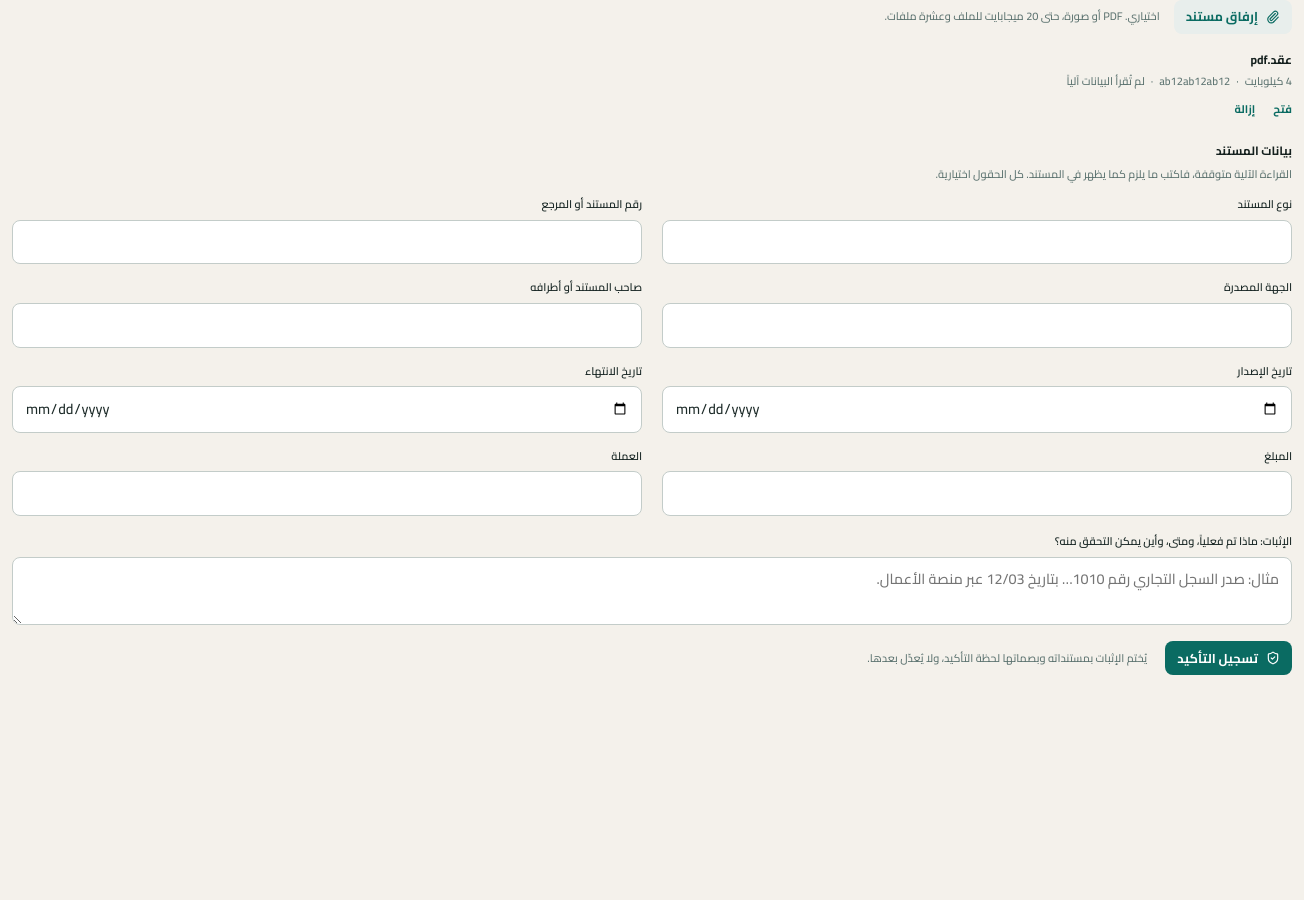
ExecutionProofForm › shows the server's own words when the proof was sealed elsewhere
Expected: the text "عقد.pdf" is shown, [1250, 48, 1292, 71]
Replace the text in the text box labelled "الإثبات: ماذا تم فعلياً، ومتى، وأين يمكن التحقق منه؟" with "صدر السجل التجاري عبر منصة الأعمال اليوم": {"x": 652, "y": 591} [12, 556, 1292, 625]
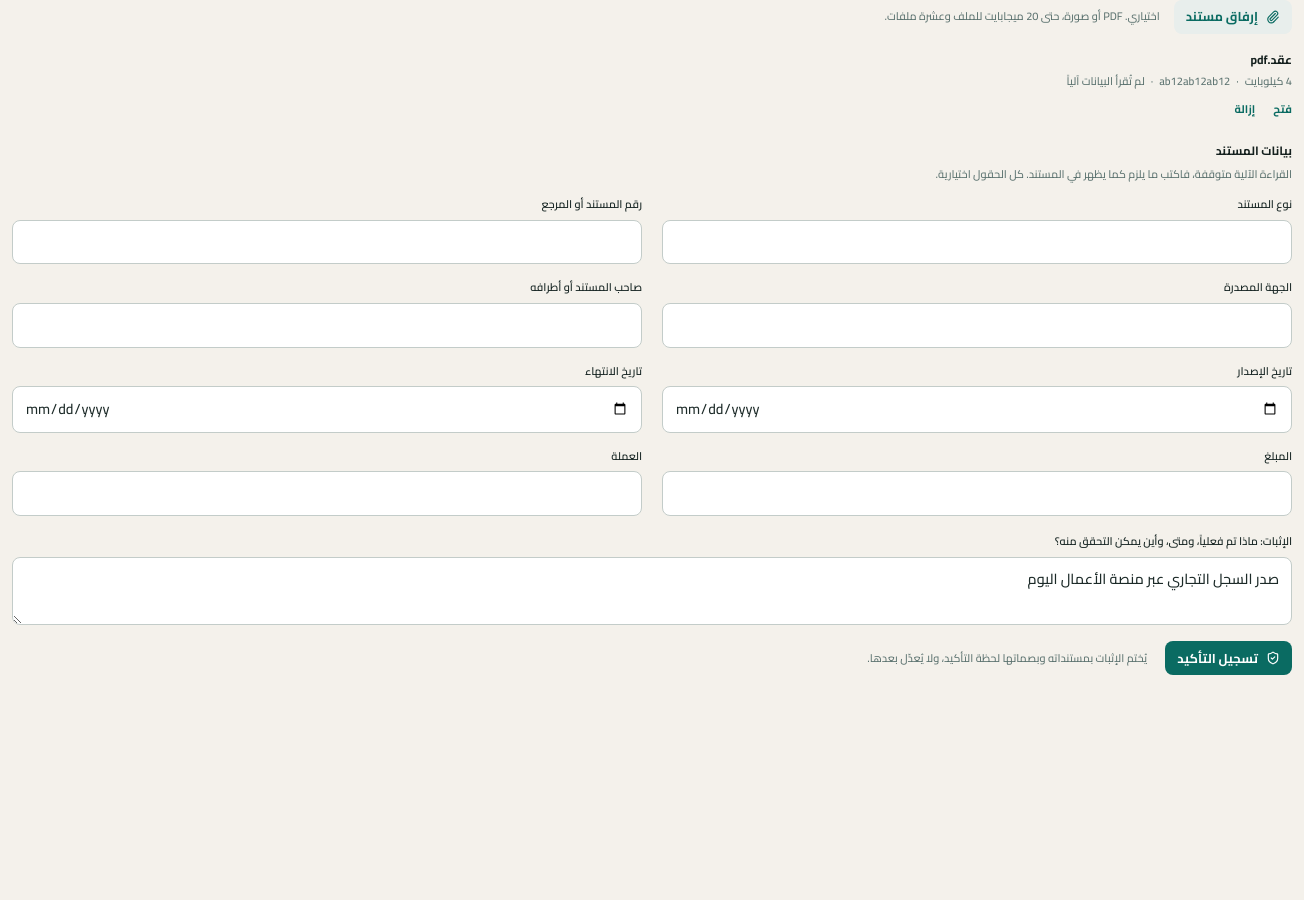
Click the button "تسجيل التأكيد": {"x": 1229, "y": 658} [1165, 642, 1292, 676]
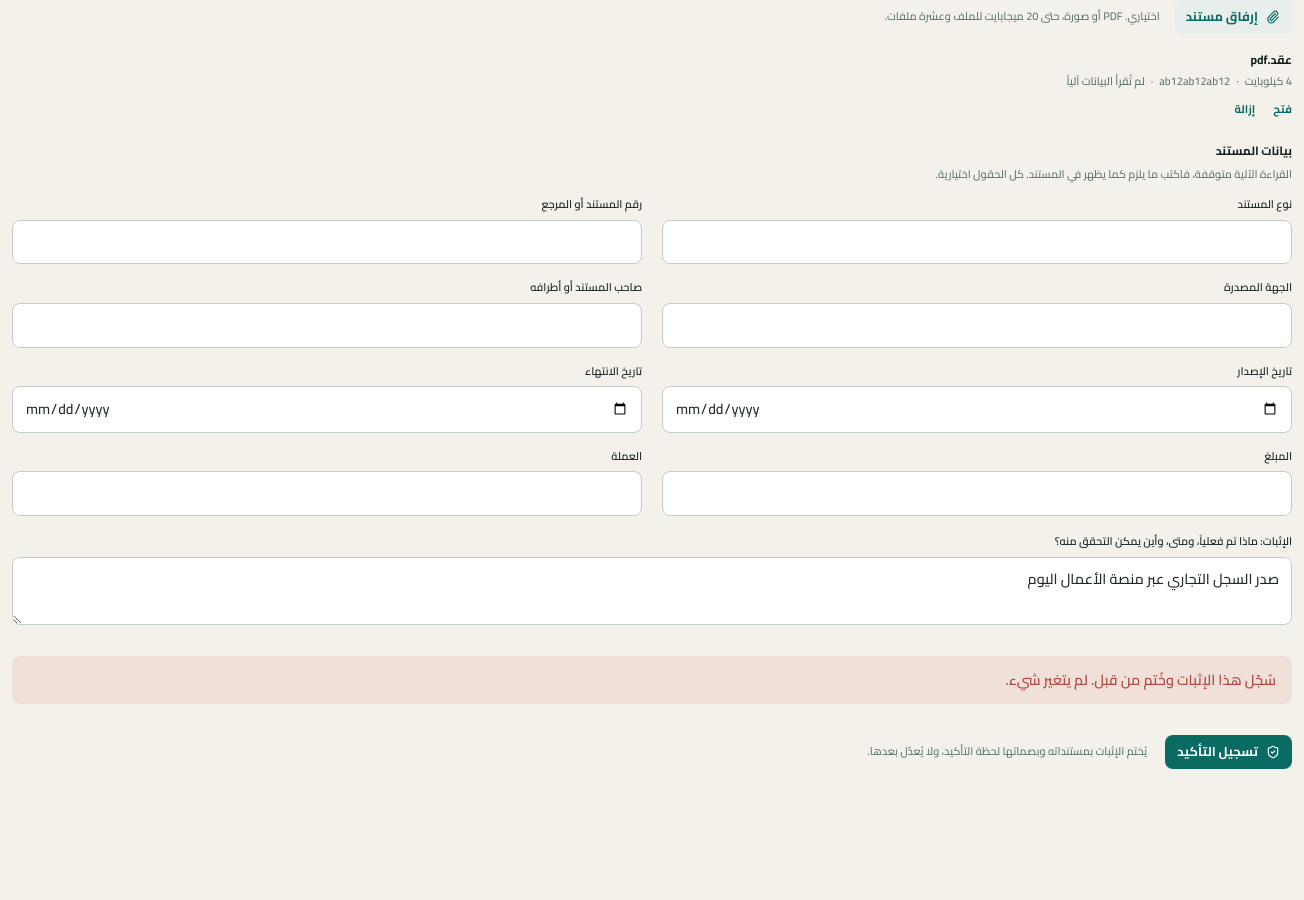
Result: the text "سُجّل هذا الإثبات وخُتم من قبل. لم يتغير شيء." is shown at [12, 656, 1292, 704]
